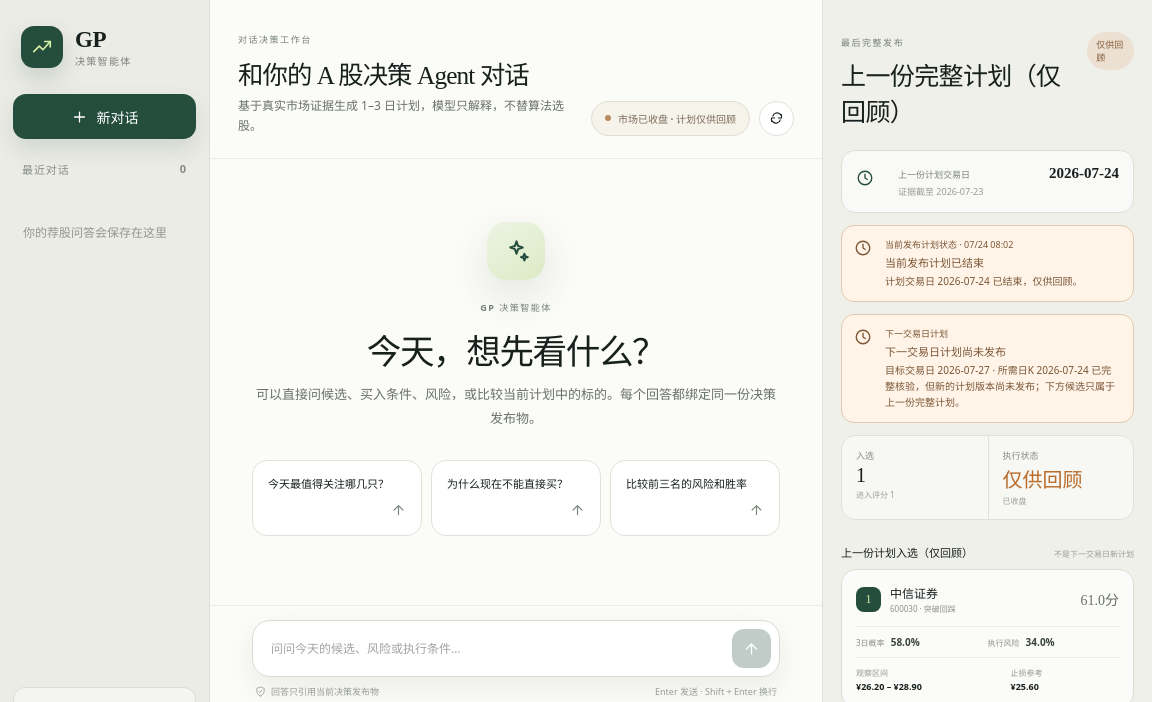
GP chat workspace › keeps the current brief when a conversation publication belongs to the same plan
The image size is (1152, 702).
Type "继续当前计划" into the text box named "聊天输入" at (496, 649), box [271,630,722,668]
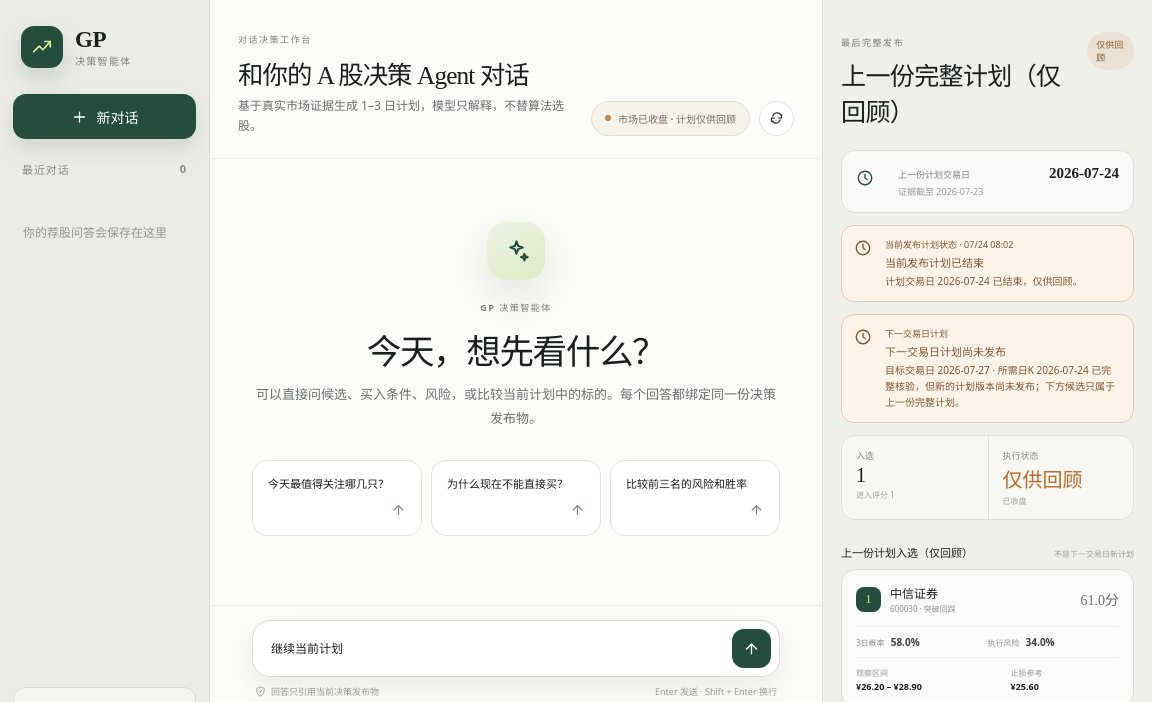
Click the button named "发送消息" at (752, 648), box [732,629,771,668]
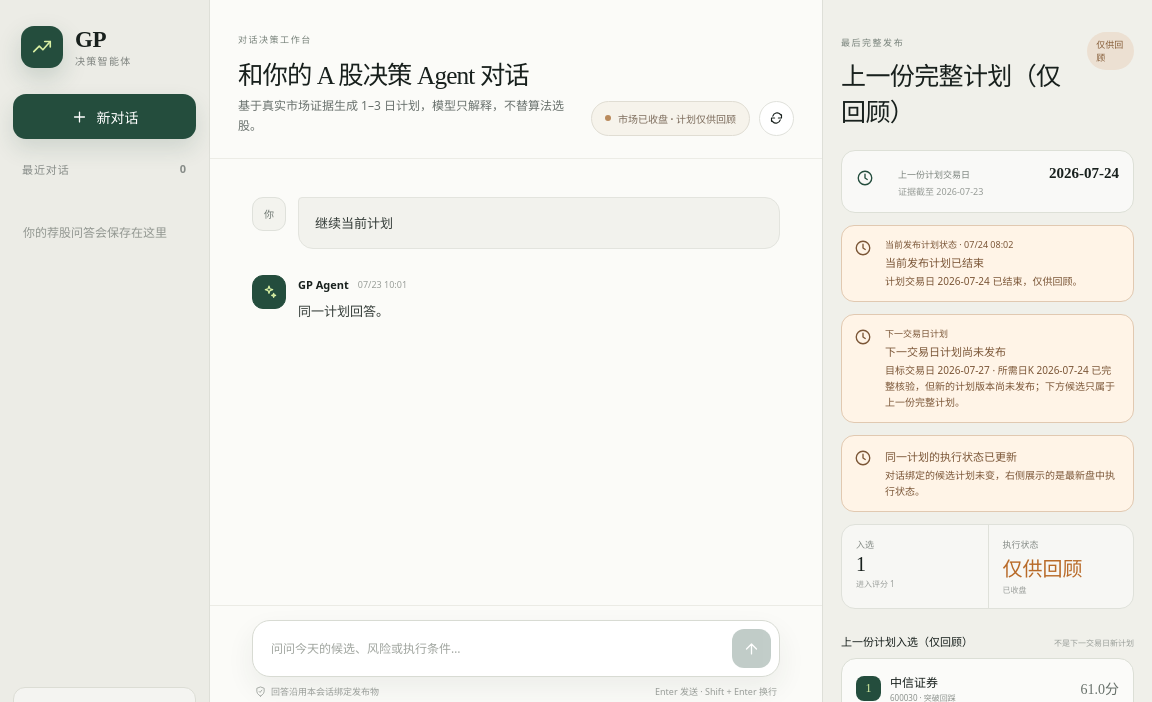
Result: the text "同一计划回答。" is shown at [298,302,389,320]
Result: the text "同一计划的执行状态已更新" is shown at [885,449,1017,464]
Result: the text "回答沿用本会话绑定发布物" is shown at [255,685,379,698]
